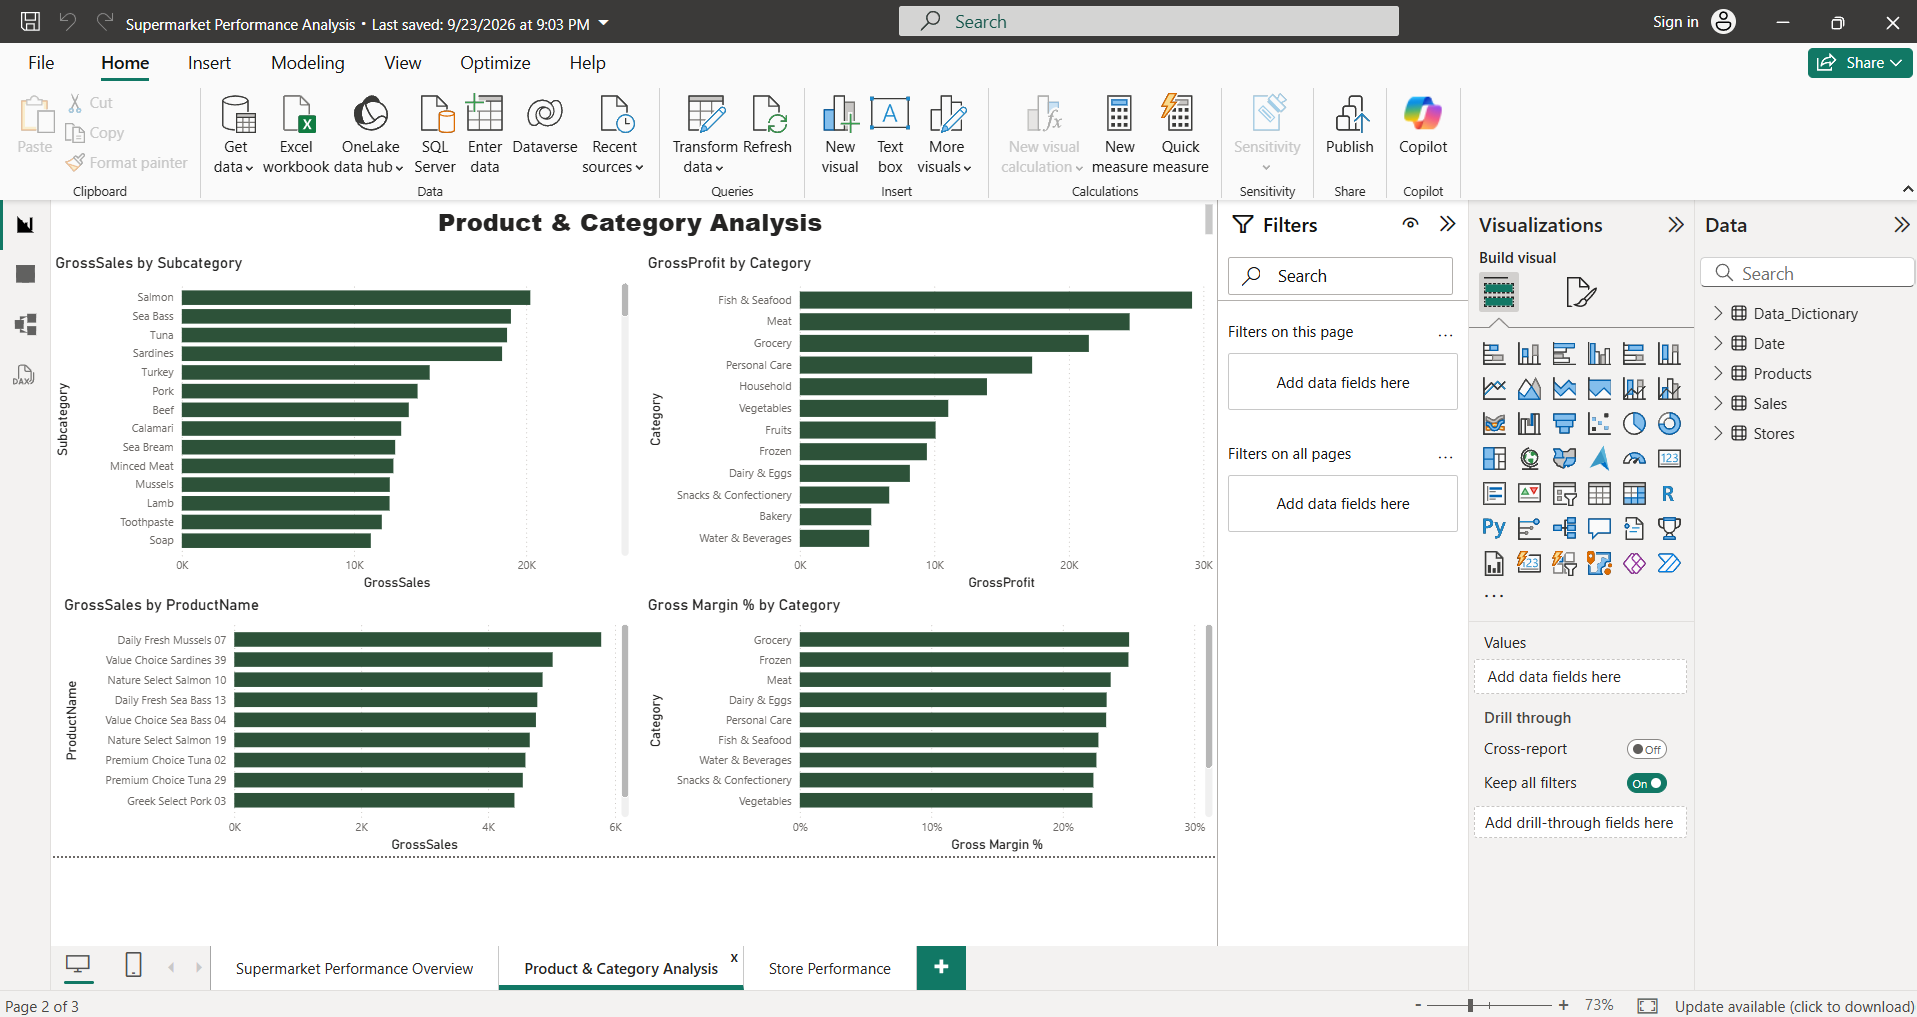

The dashboard page shown, as its layout file describes it:
{"tool":"powerbi","page":{"name":"Product & Category Analysis","canvas":[1280,720],"ordinal":1},"visuals":[{"type":"clusteredBarChart","fields":{"Category":["Products.Subcategory"],"Y":["Sum(Sales.GrossSales)"]},"box":[0,59,639.5,374.6],"z":0},{"type":"clusteredBarChart","fields":{"Category":["Products.ProductName"],"Y":["Sum(Sales.GrossSales)"]},"box":[9.6,433.6,629.8,286.8],"z":1000},{"type":"clusteredBarChart","fields":{"Category":["Products.Category"],"Y":["Sum(Sales.GrossProfit)"]},"box":[650.4,59,629.8,374.6],"z":2000},{"type":"clusteredBarChart","fields":{"Category":["Products.Category"],"Y":["Data_Dictionary.Gross Margin %"]},"box":[650.4,433.6,629.8,286.8],"z":3000},{"type":"textbox","box":[0,0,1280.3,45.3],"z":4000}]}

Visuals, with their boxes on the page's 1280x720 design canvas (x1, y1, x2, y2). These are canvas units, not pixel positions in the 1917x1017 screenshot, which may show the page scaled, cropped or inside an application window:
clusteredBarChart - Products.Subcategory x Sum(Sales.GrossSales): bbox=(0, 59, 640, 434)
clusteredBarChart - Products.ProductName x Sum(Sales.GrossSales): bbox=(10, 434, 639, 720)
clusteredBarChart - Products.Category x Sum(Sales.GrossProfit): bbox=(650, 59, 1280, 434)
clusteredBarChart - Products.Category x Data_Dictionary.Gross Margin %: bbox=(650, 434, 1280, 720)
textbox: bbox=(0, 0, 1280, 45)
